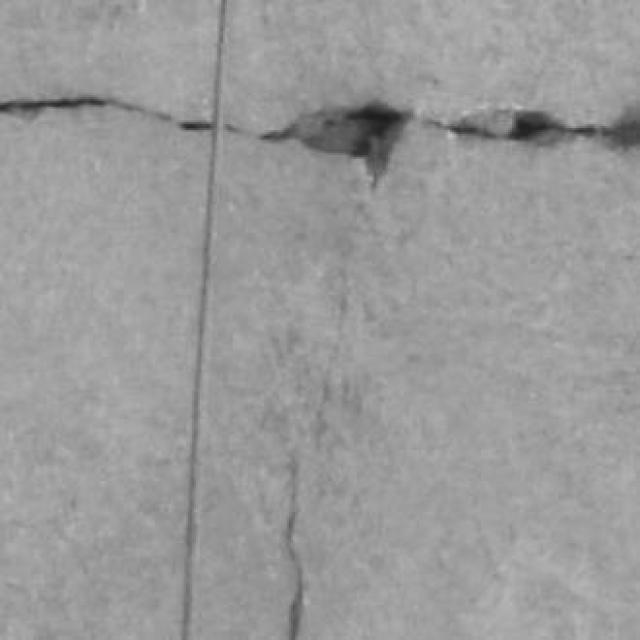crack: (225, 101, 639, 188), (251, 101, 639, 186), (260, 101, 411, 188), (0, 96, 211, 129), (284, 458, 304, 639)
